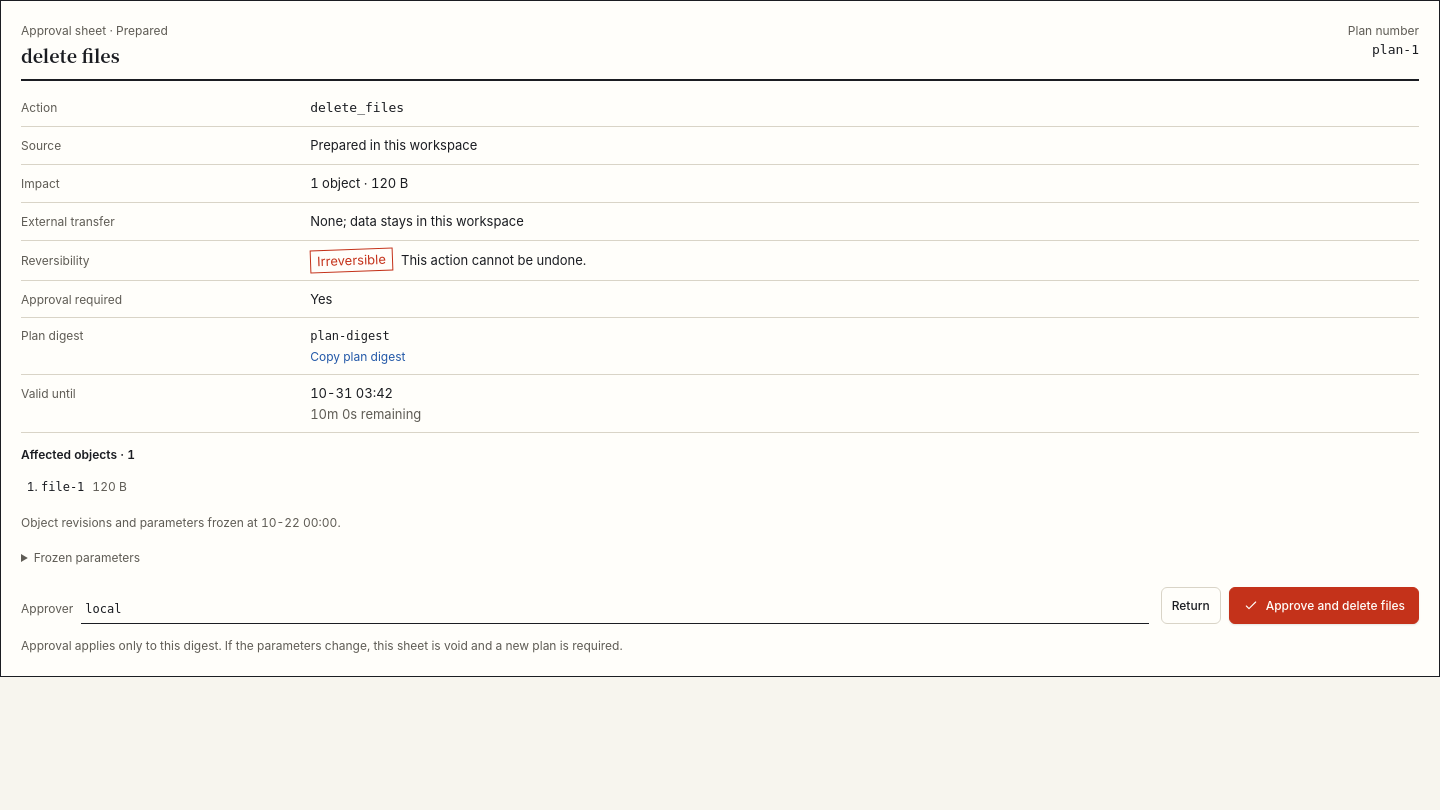
Test case: rejects an irreversible plan without executing
The image size is (1440, 810).
Click the button "Return".
click(1191, 606)  # box [1161,587,1221,624]
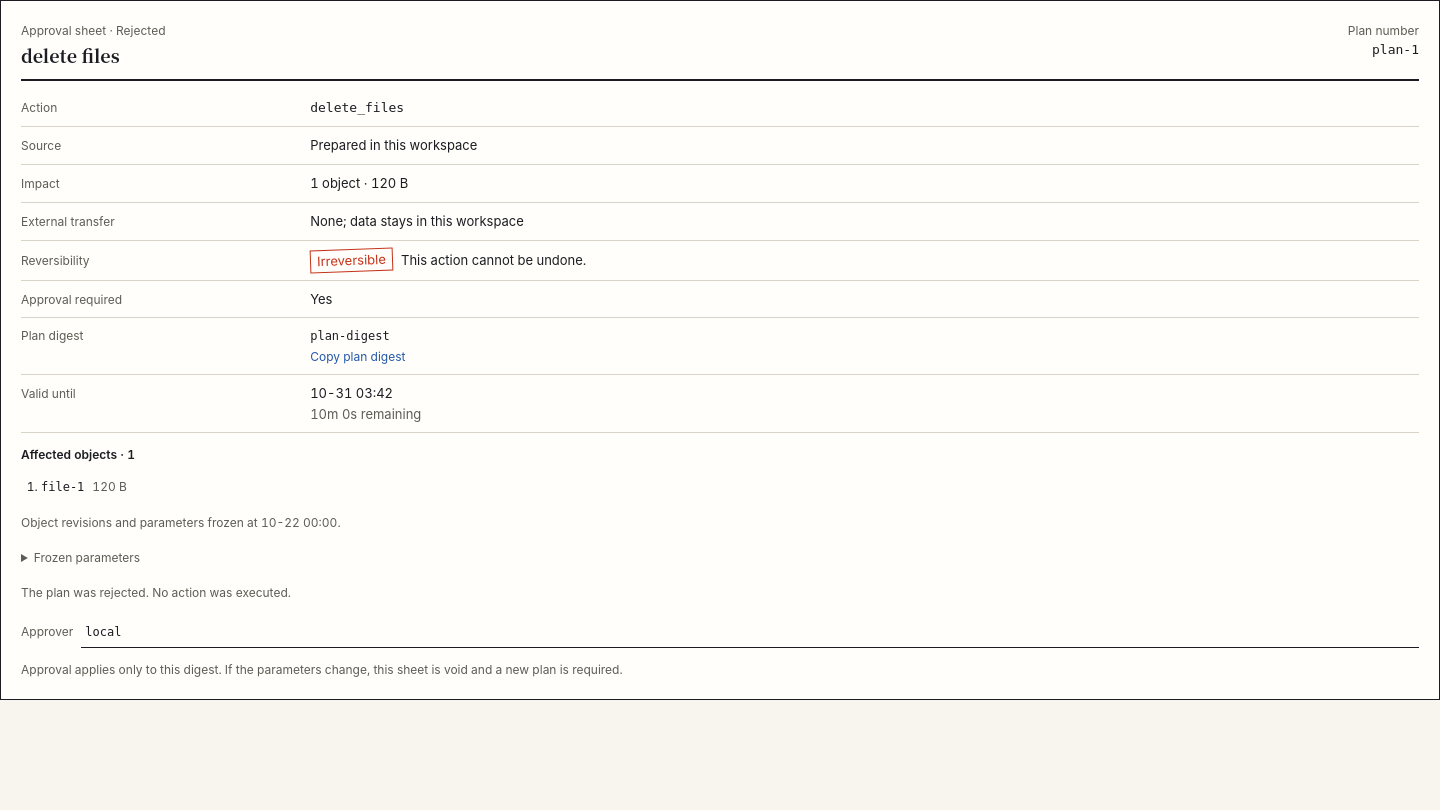
Now the text "The plan was rejected. No action was executed." is shown, box [21,585,291,600]
